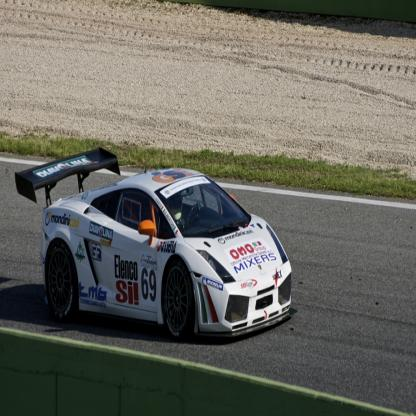Car: (16, 147, 292, 341)
